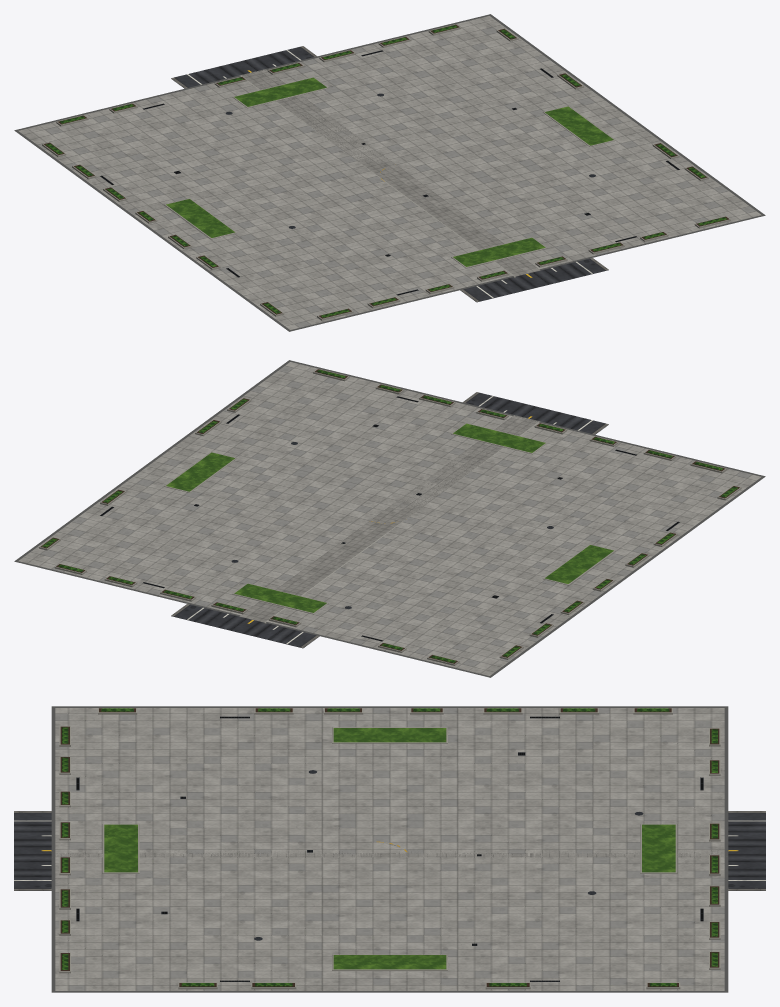
Rendered from city_ground.glb.
3 views of the same model, one above another, from view 1: azimuth 30°, elevation 25°; view 2: azimuth 150°, elevation 25°; view 3: azimuth 270°, elevation 25° (orthographic). The views are drawn at different scales.
Visible parts, largest first — view 1: Lot_Ground, Sidewalk_Straight, Road_Straight; view 2: Lot_Ground, Sidewalk_Straight, Road_Straight; view 3: Lot_Ground, Road_Straight, Sidewalk_Straight.
Part boxes in pixels (x1=…): Lot_Ground: x1=14, y1=14, x2=765, y2=331; Sidewalk_Straight: x1=240, y1=69, x2=540, y2=277; Road_Straight: x1=171, y1=46, x2=608, y2=302; Lot_Ground: x1=14, y1=360, x2=765, y2=677; Sidewalk_Straight: x1=239, y1=415, x2=539, y2=623; Road_Straight: x1=171, y1=392, x2=608, y2=648; Lot_Ground: x1=51, y1=706, x2=728, y2=992; Road_Straight: x1=14, y1=811, x2=765, y2=890; Sidewalk_Straight: x1=55, y1=846, x2=724, y2=857.
Size of the model in its own units: 72 by 0.4875 by 80.
14 materials, 6 textured.
